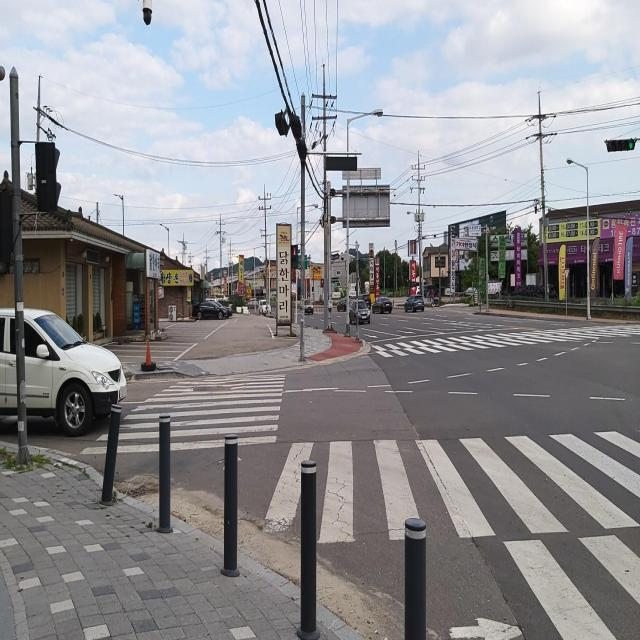횡단보도: (261, 435, 640, 640), (79, 370, 287, 472), (367, 317, 640, 359)
